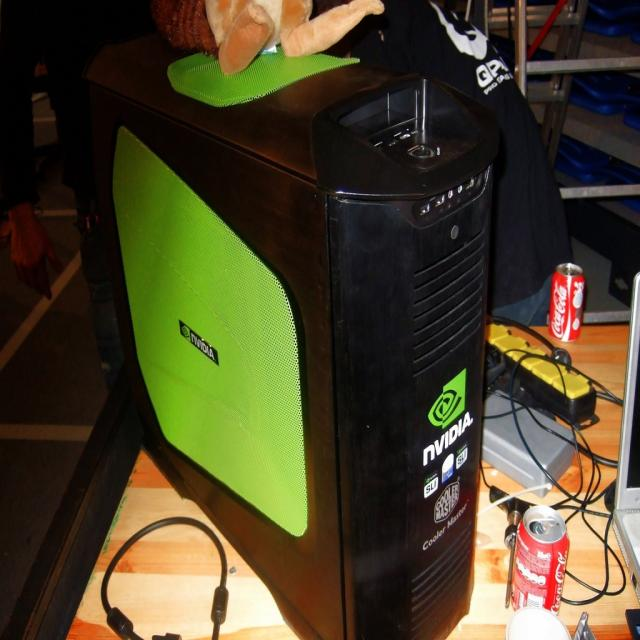nvidia: (428, 369, 468, 431), (180, 323, 192, 341)
